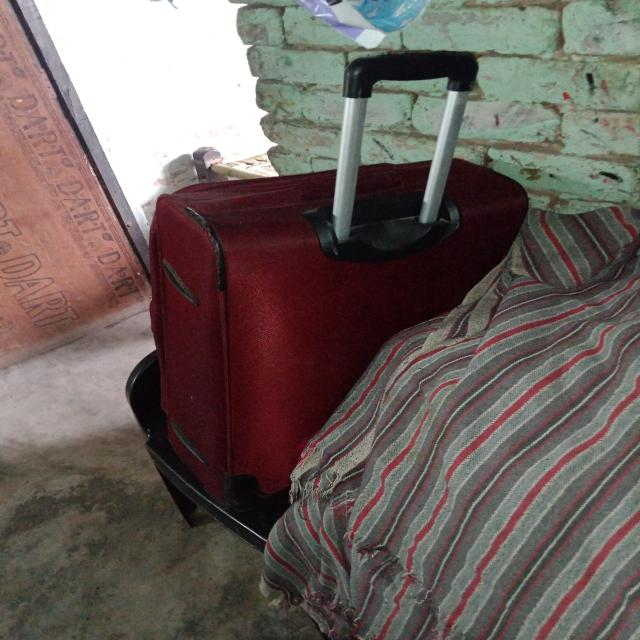suitcaserotation: (143, 45, 533, 511)
